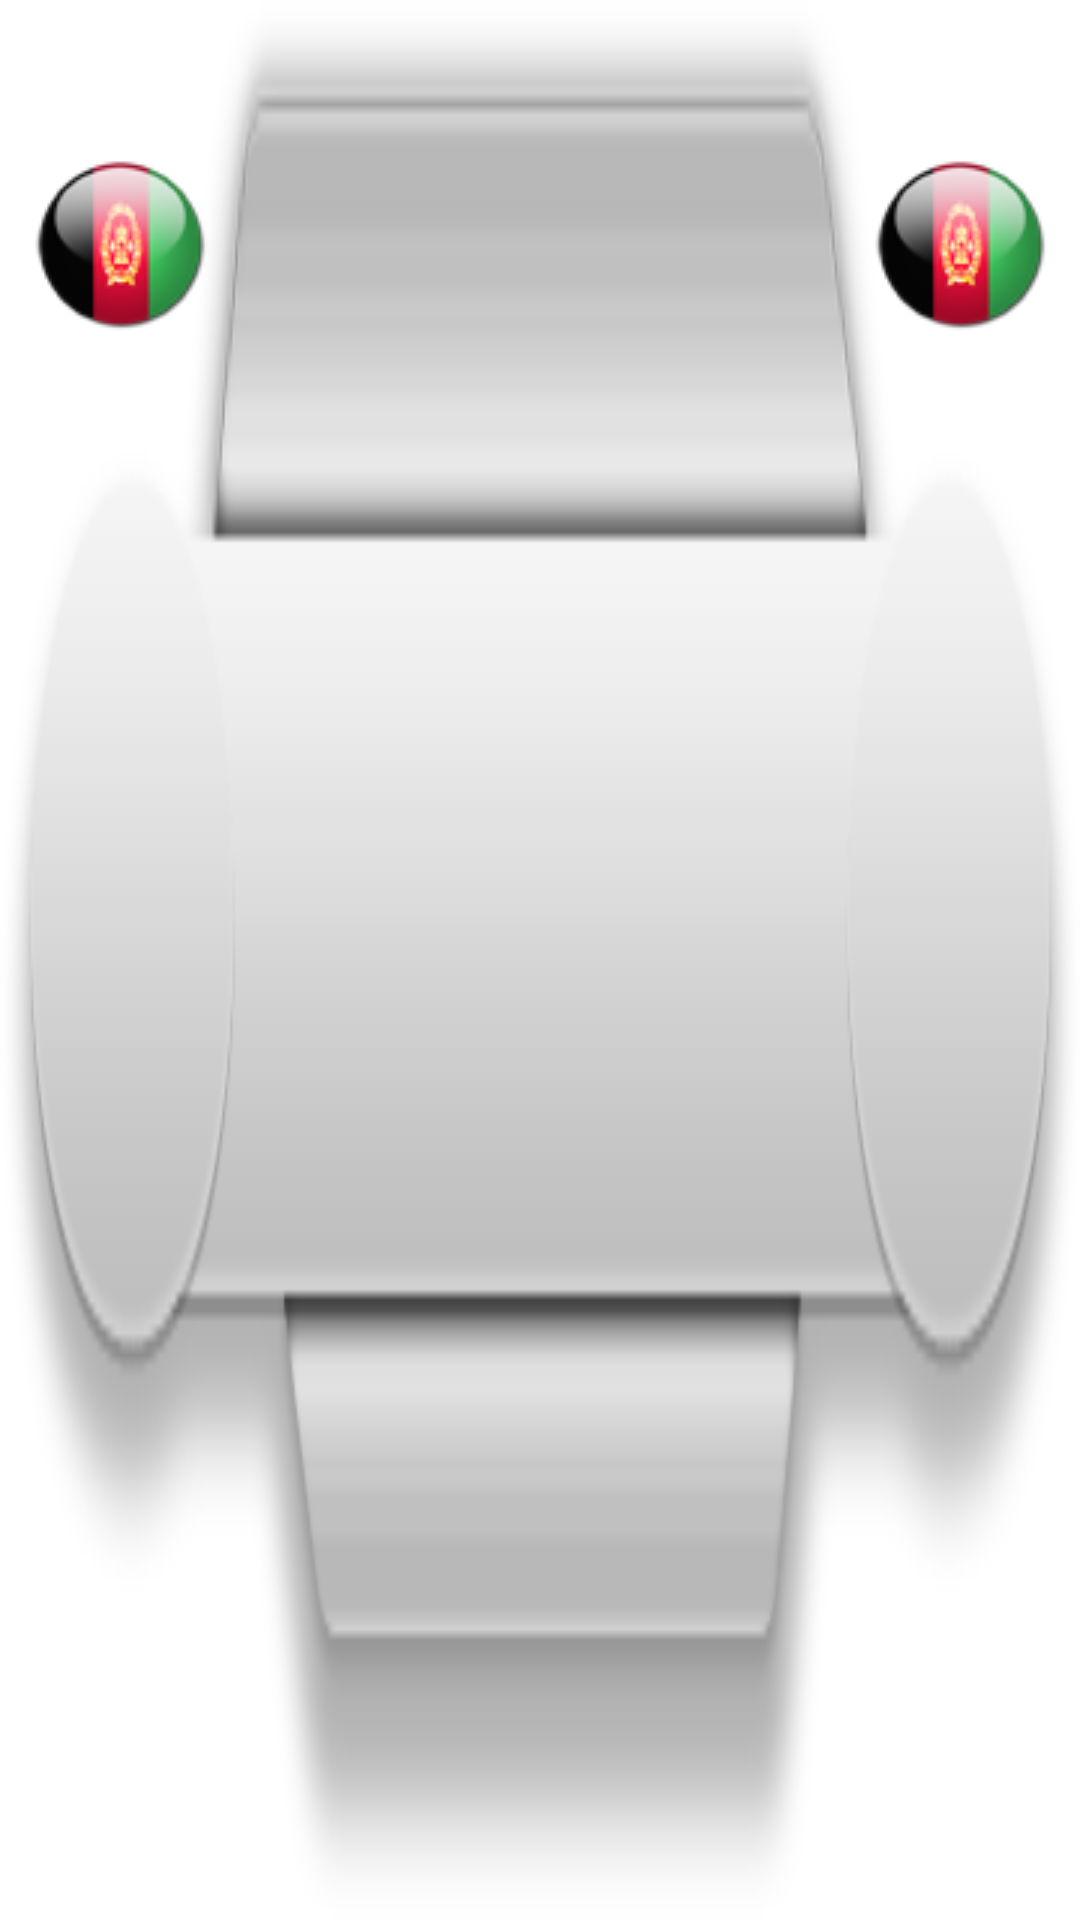

Where icons sit on this 1080x1920 app screen, as (x1, y1, x2, y2):
afghanistan: (36, 161, 205, 328), (876, 161, 1045, 328)
